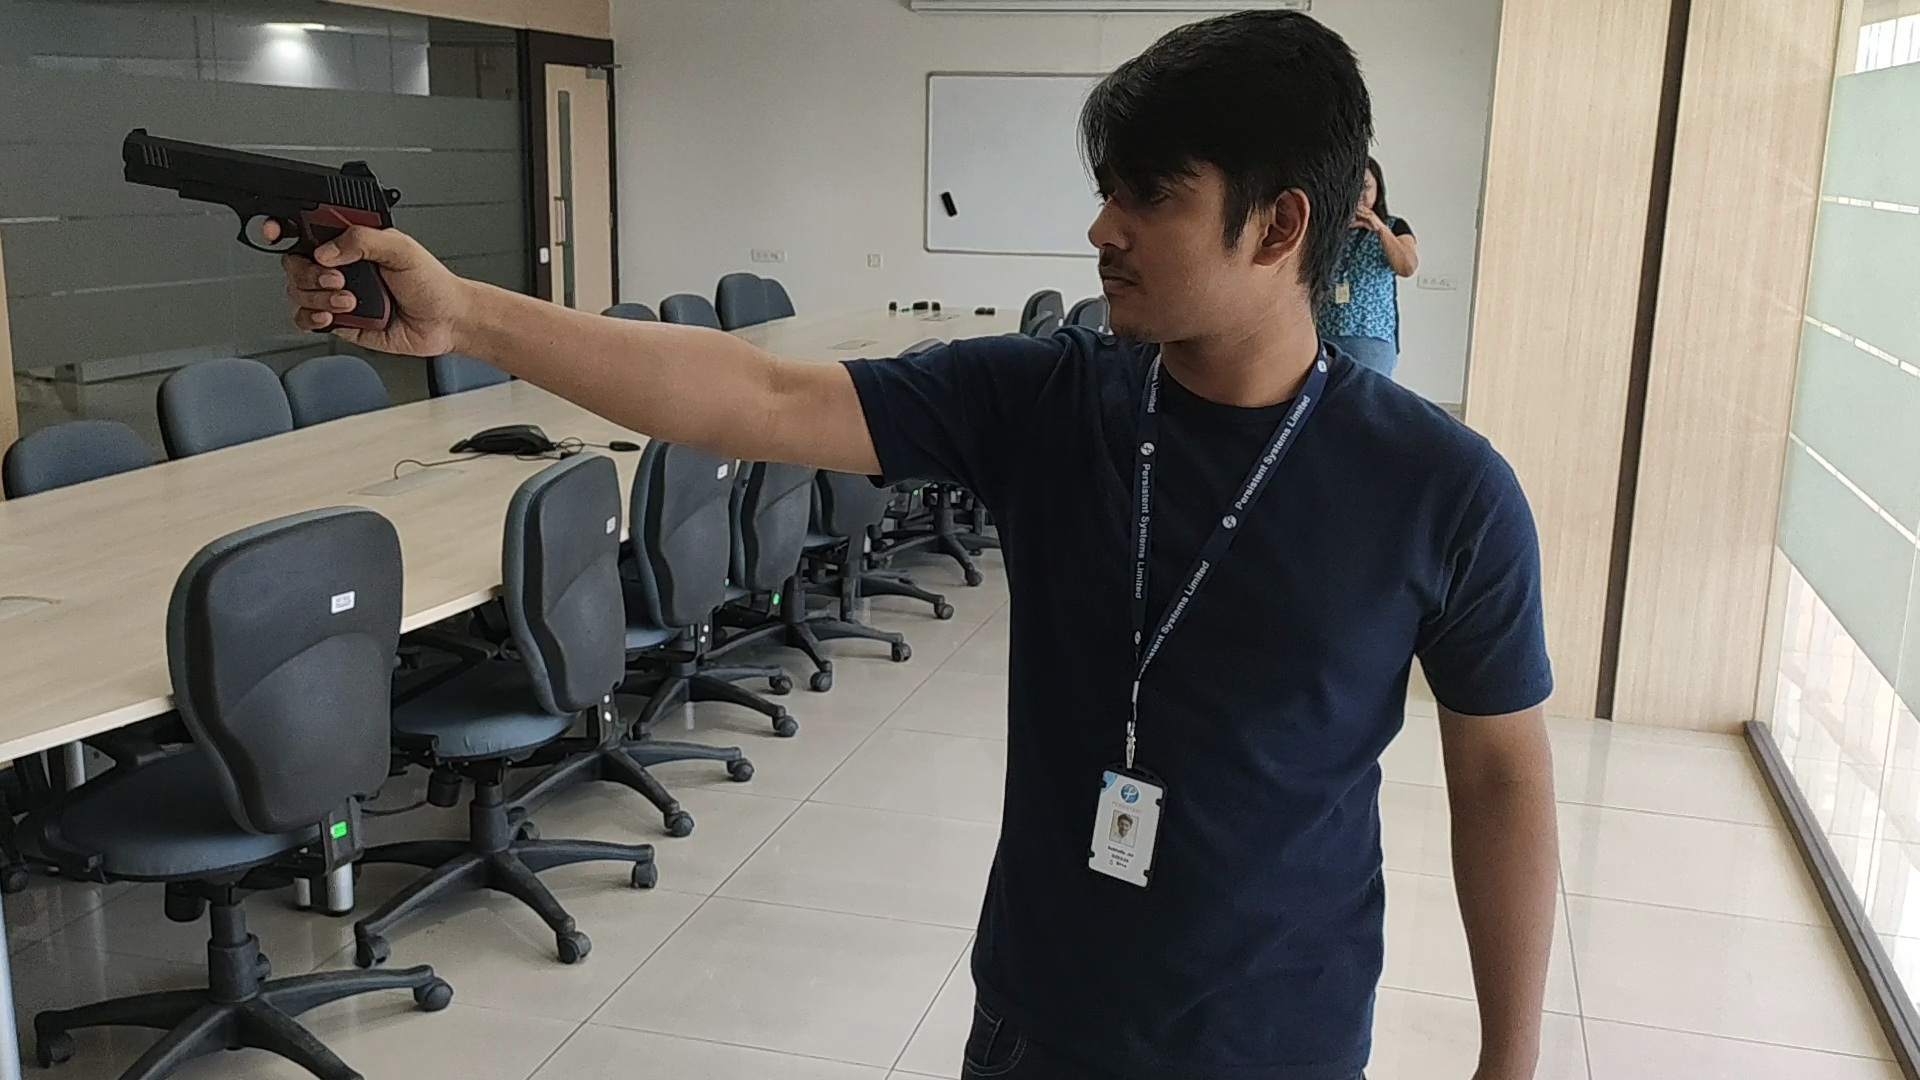gun: (120, 131, 401, 243)
